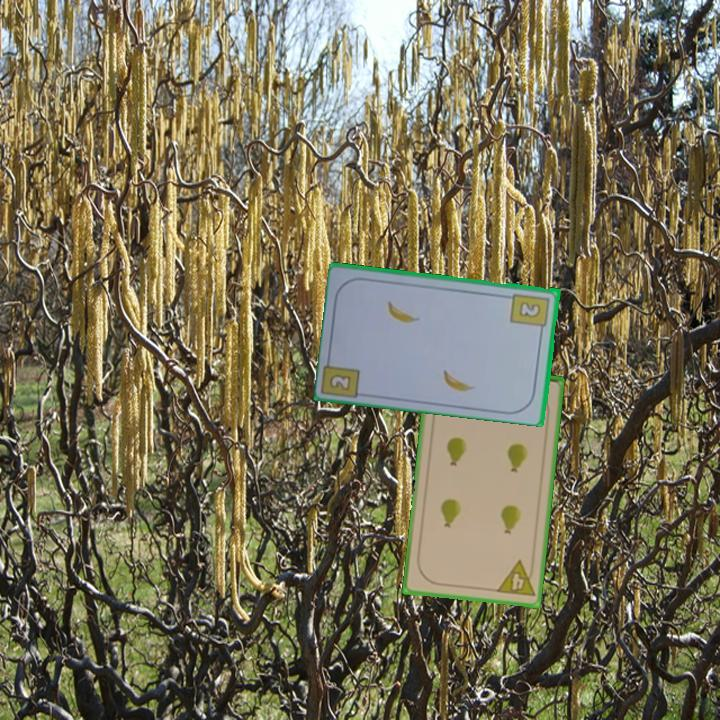2b: (508, 289, 552, 335), (326, 370, 355, 393)
4p: (493, 557, 538, 600)
